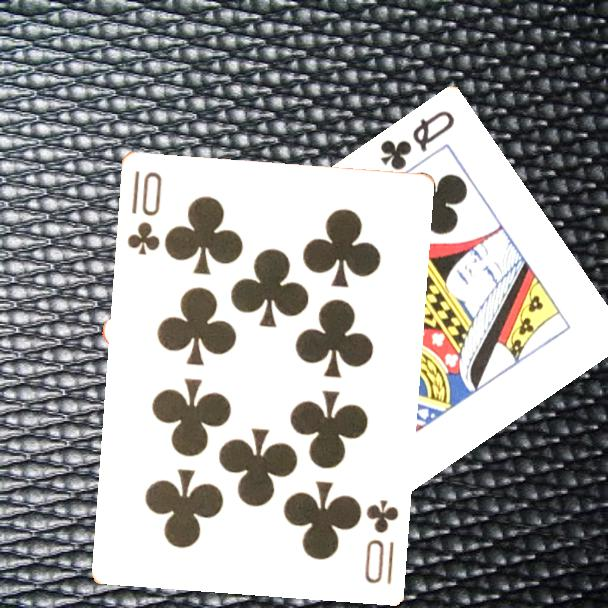c10: (123, 167, 164, 258), (360, 496, 401, 587)
c12: (376, 107, 458, 174)
